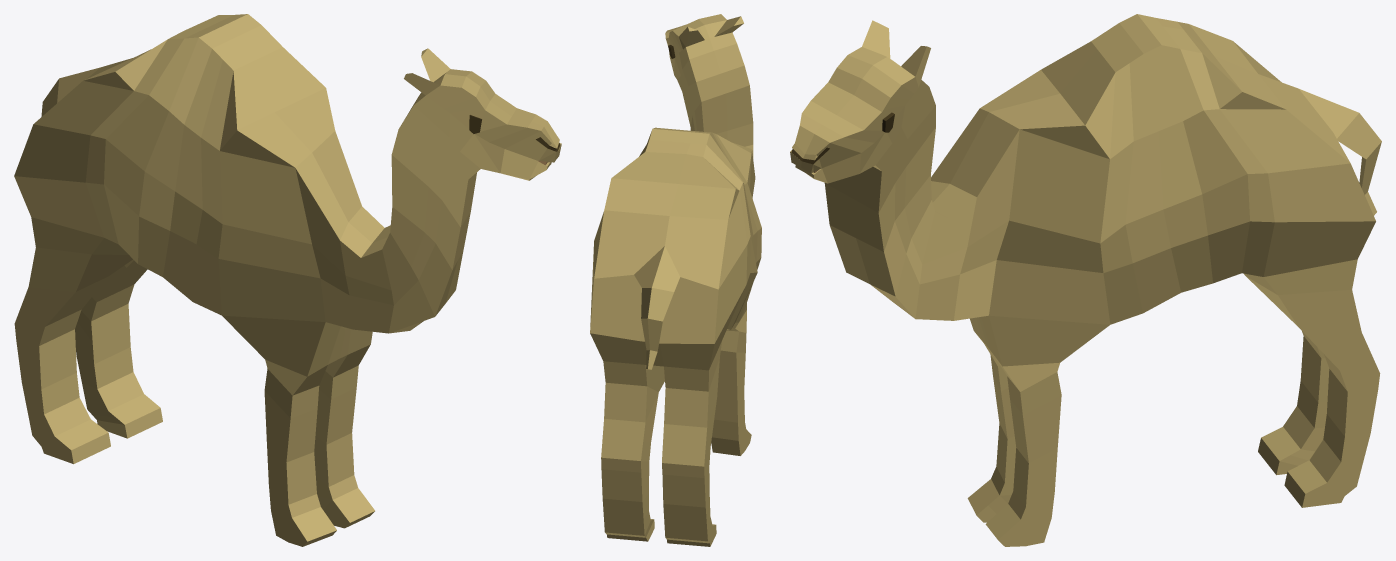
The model's file is camels_by_Hatty.glb.
The picture shows the model from 3 angles, left to right: view 1: azimuth 30°, elevation 25°; view 2: azimuth 150°, elevation 25°; view 3: azimuth 270°, elevation 25°; orthographic projection. The views are drawn at different scales.
Visible parts, largest first — view 1: Looking Pose; view 2: Looking Pose; view 3: Looking Pose.
Part boxes in pixels (box(x1,y1,x2,y2)): Looking Pose: box(14, 14, 561, 546); Looking Pose: box(590, 14, 761, 546); Looking Pose: box(790, 14, 1381, 546).
Size of the model in its own units: 2.33 by 3.65 by 3.78.
